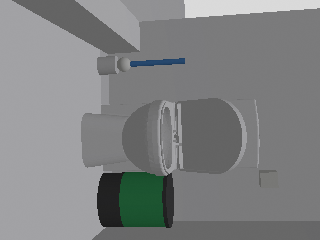lid_1: (175, 98, 246, 173)
